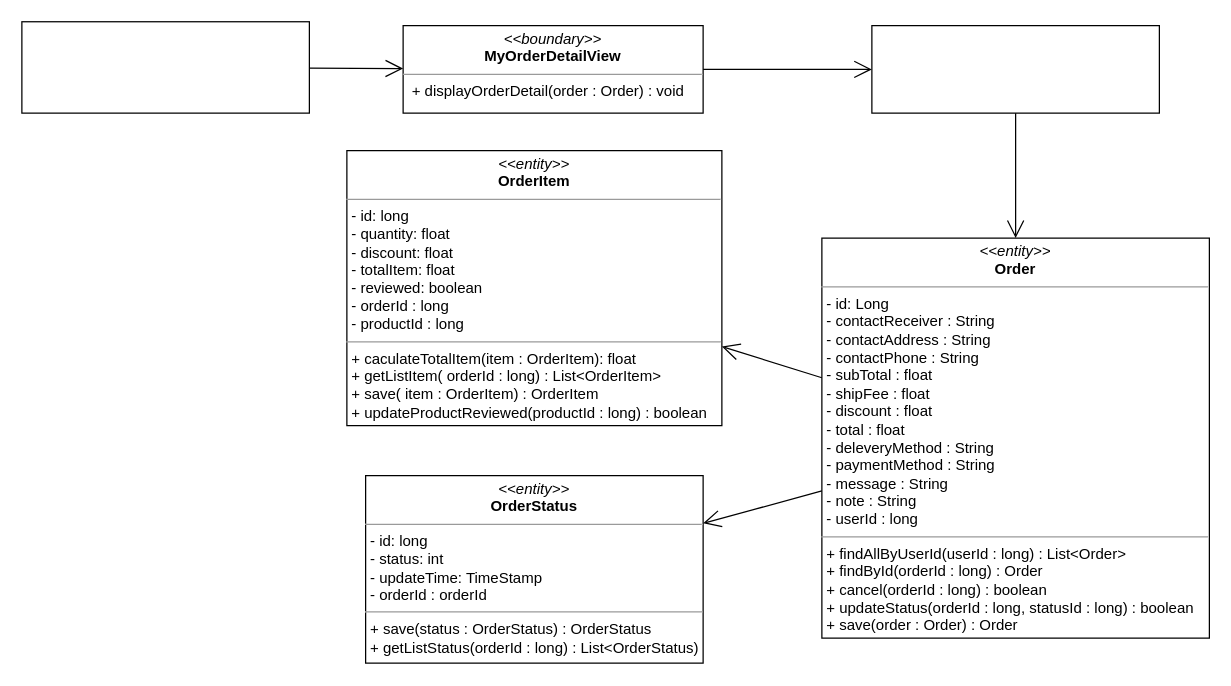
This 1231x686 diagram has some shape labels left out. Here are the shapes that lost their labels. From the top down, the centre of each, then its label:
the point at 165,66: <<boundary>> MyOrdersView + viewOrderDetail(orderId : long) : void
the point at 1015,68: <<control>> OrderController + getOrderDetail(orderId : long) : Order
